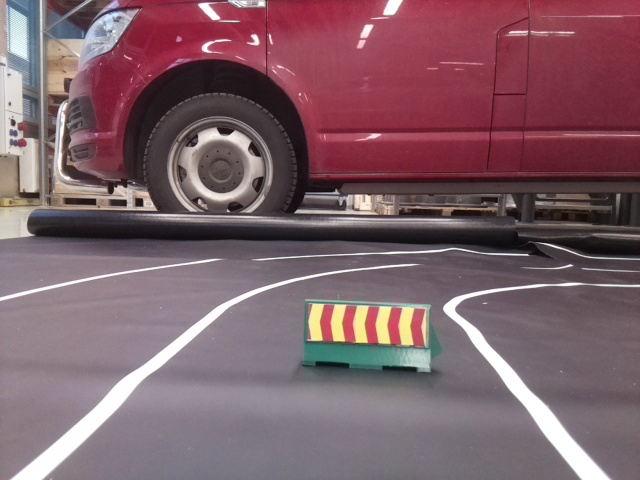ClosedRoadStand: (305, 302, 431, 372)
